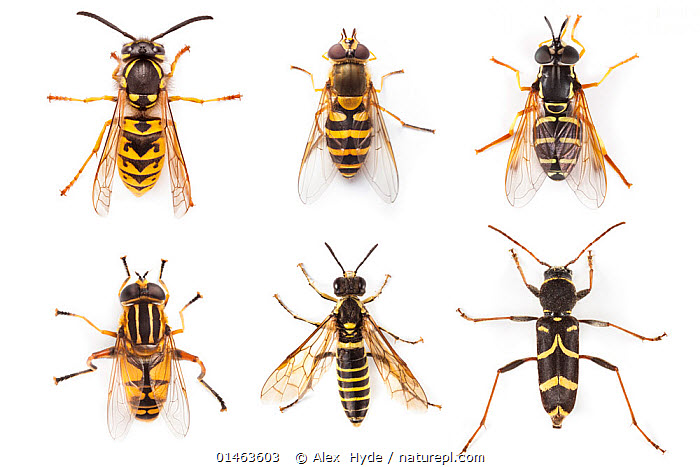chax: (38, 1, 257, 228)
